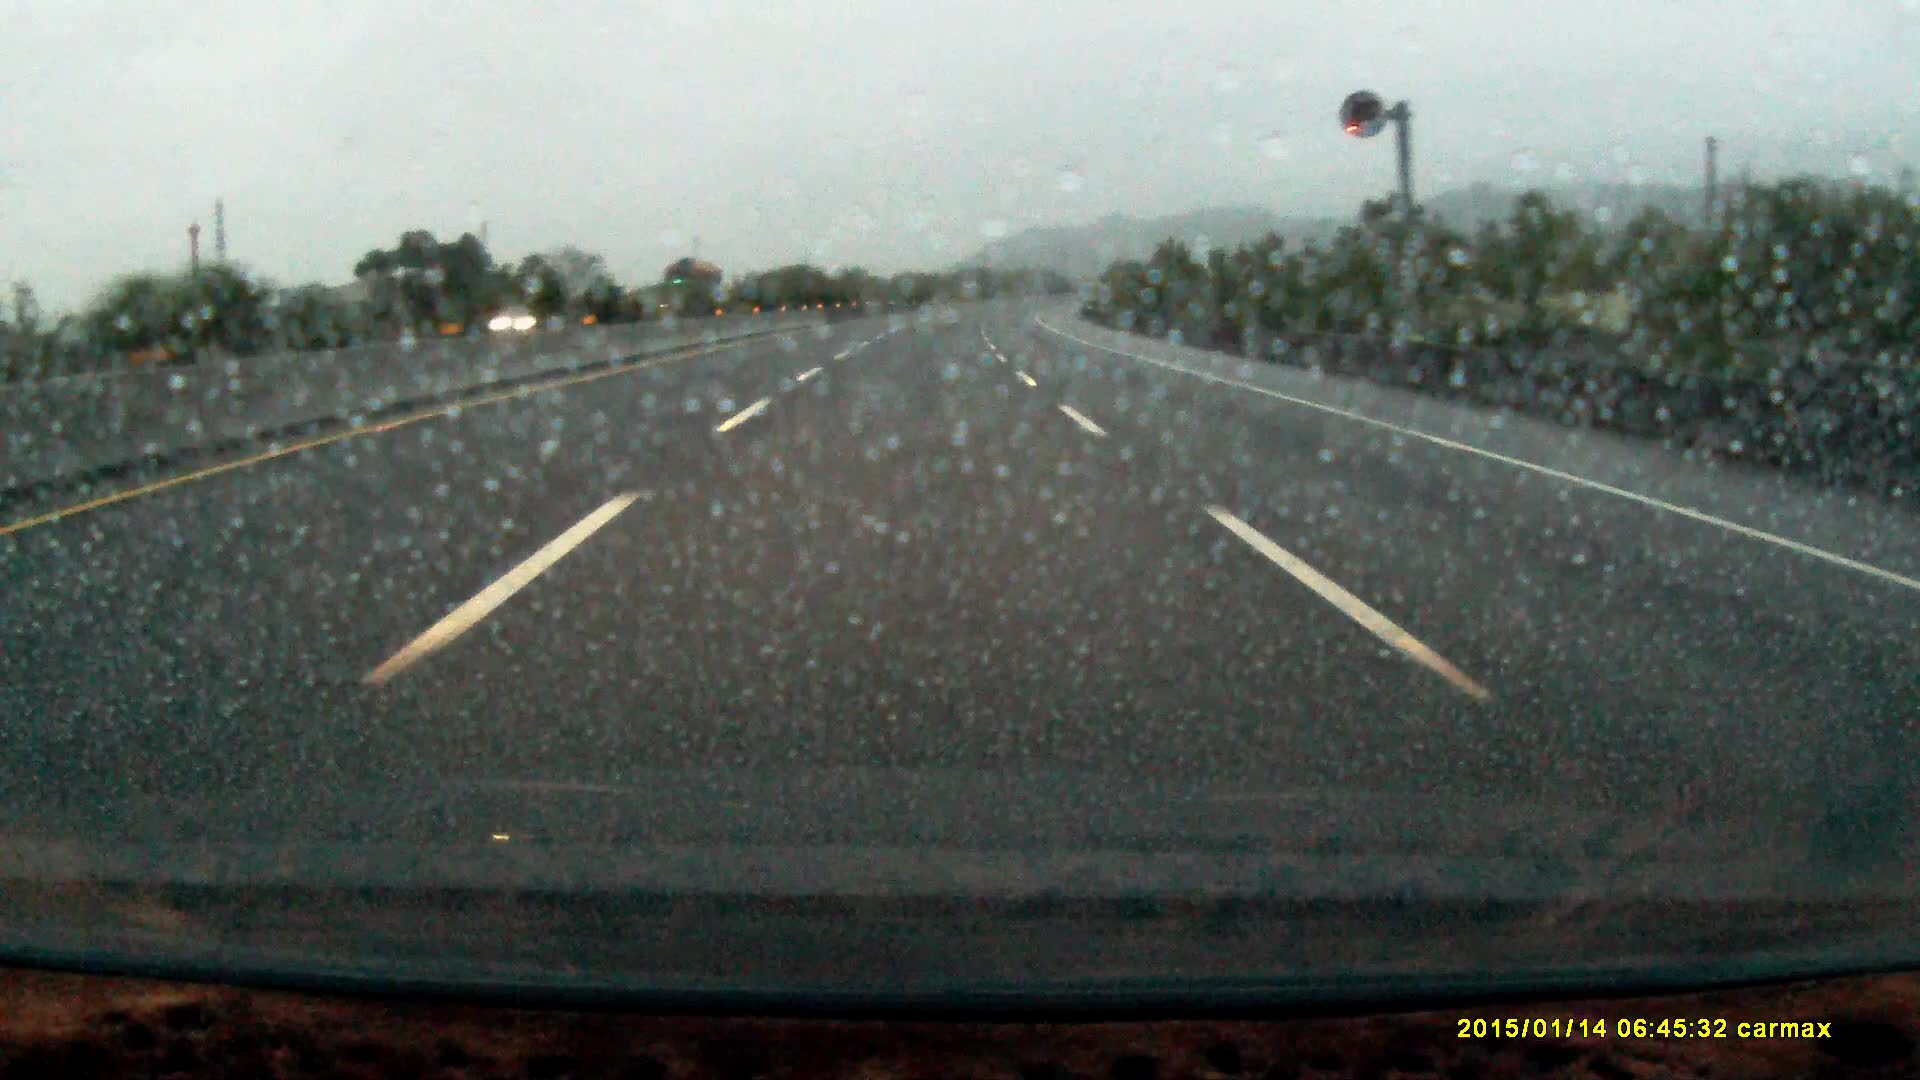vehicle: (655, 261, 727, 318), (491, 302, 566, 331)
